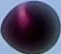Balloon: (1, 1, 61, 54)
